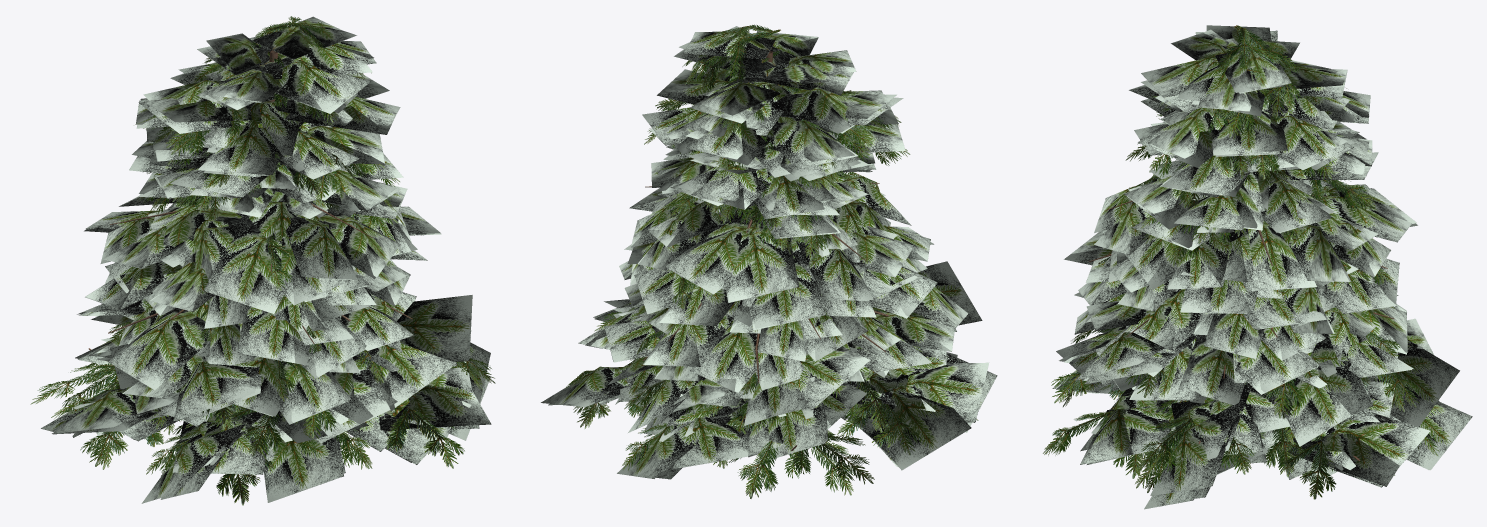
The model's file is PETE_Pine_Tree.fbx.
The picture shows the model from 3 angles, left to right: view 1: azimuth 30°, elevation 25°; view 2: azimuth 150°, elevation 25°; view 3: azimuth 270°, elevation 25°; orthographic projection. The views are drawn at different scales.
Visible parts, largest first — view 1: PineLOD1.002; view 2: PineLOD1.002; view 3: PineLOD1.002.
Part boxes in pixels (x1,y1,x2,y2): PineLOD1.002: (30, 16, 495, 505); PineLOD1.002: (541, 24, 997, 498); PineLOD1.002: (1043, 25, 1472, 509).
Size of the model in its own units: 1431 by 1380 by 1310.
Materials: 3 (3 with a texture image).
